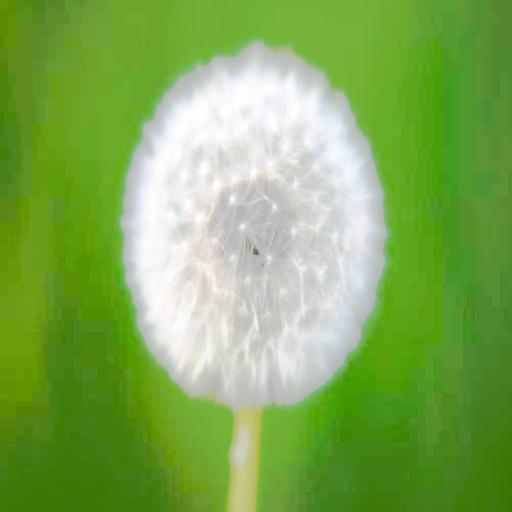dandelion: (122, 48, 387, 409)
